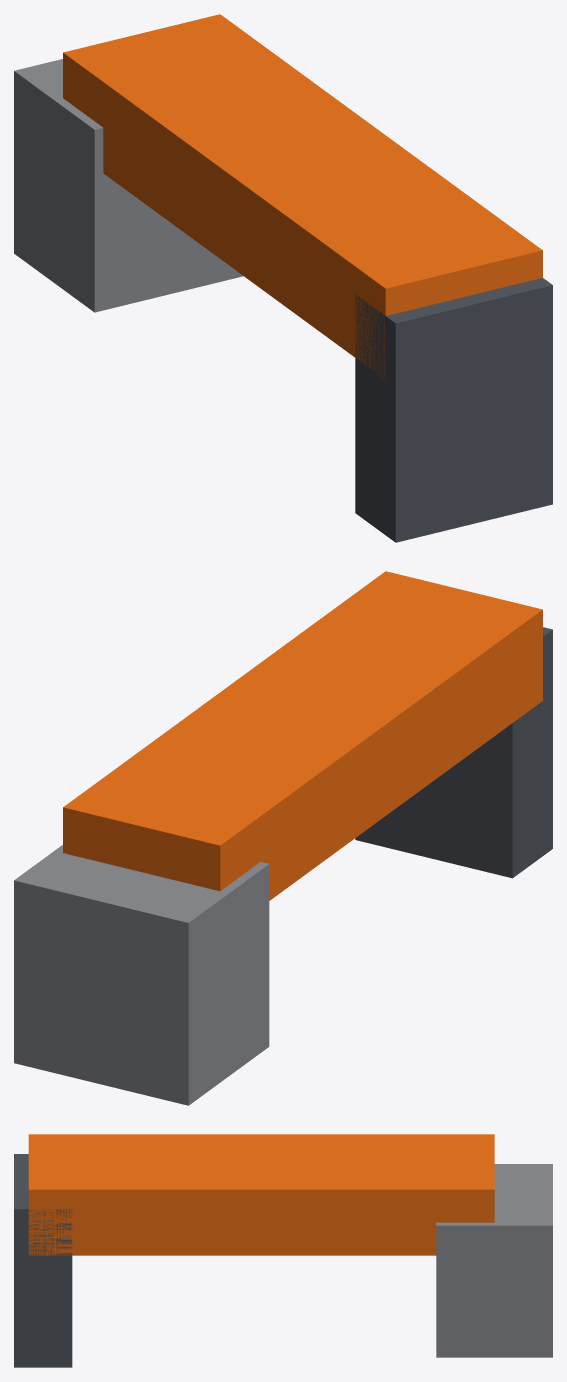
The model's file is docking_clamp.obj.
The picture shows the model from 3 angles, top to bottom: view 1: azimuth 30°, elevation 25°; view 2: azimuth 150°, elevation 25°; view 3: azimuth 270°, elevation 25°; orthographic projection. The views are drawn at different scales.
Visible parts, largest first — view 1: docking_clamp; view 2: docking_clamp; view 3: docking_clamp.
Part boxes in pixels (x1,y1,x2,y2): docking_clamp: (14, 14, 552, 542); docking_clamp: (14, 571, 552, 1105); docking_clamp: (14, 1134, 552, 1367).
Bounding box in the file's own units: 0.5 × 0.675 × 1.85.
